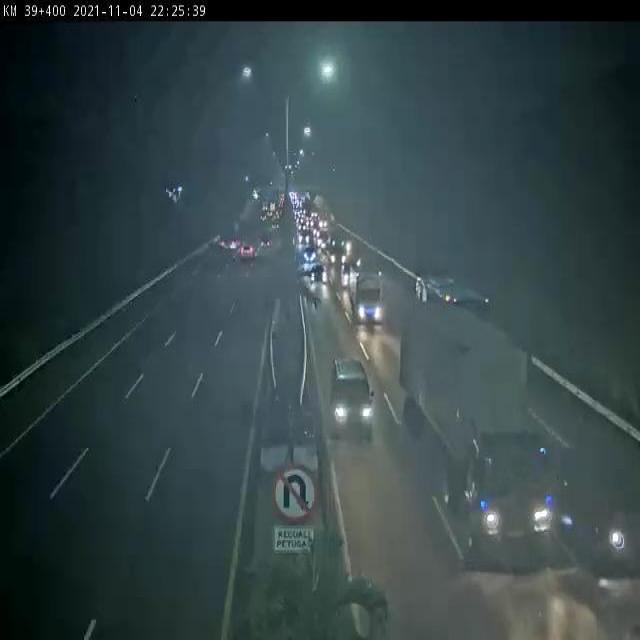car: (560, 447, 640, 564), (327, 358, 373, 434), (238, 239, 258, 265), (311, 265, 329, 284)
truck-m-: (347, 262, 384, 326)
truck-xl-: (398, 297, 557, 564)
